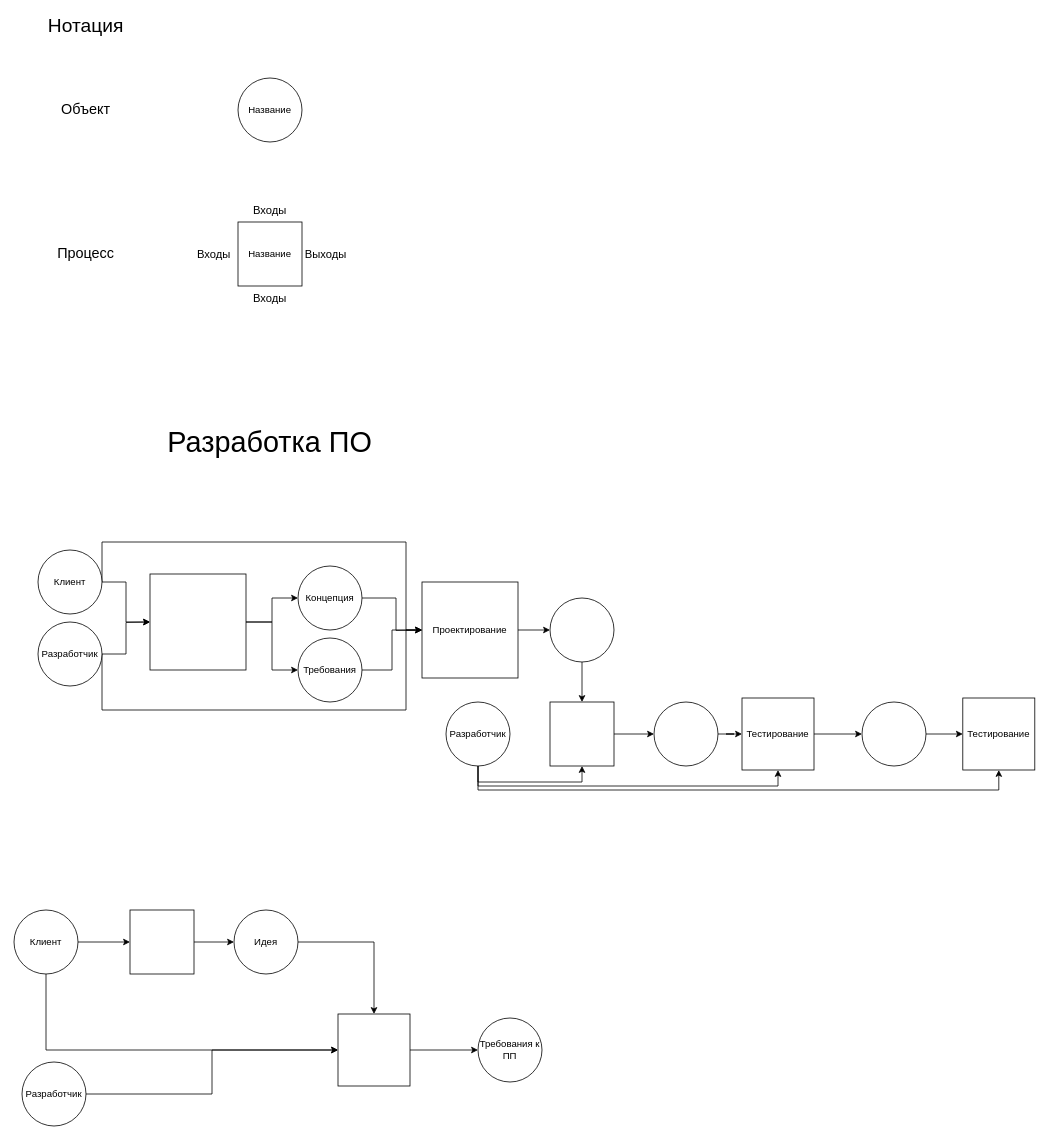
Image size: 1049x1140. Some labels were removed from this diagram. Each missing label, with the box of its shape:
План проекта: (549, 597, 614, 662)
Прототип: (653, 701, 718, 766)
Реализация: (549, 701, 614, 766)
Результаты тестирования: (861, 701, 926, 766)
Системный анализ и спецификация требований: (149, 573, 246, 670)
Создание идеи о программном продукте: (129, 909, 194, 974)
Спецификация требований к программному продукту: (337, 1013, 410, 1086)
